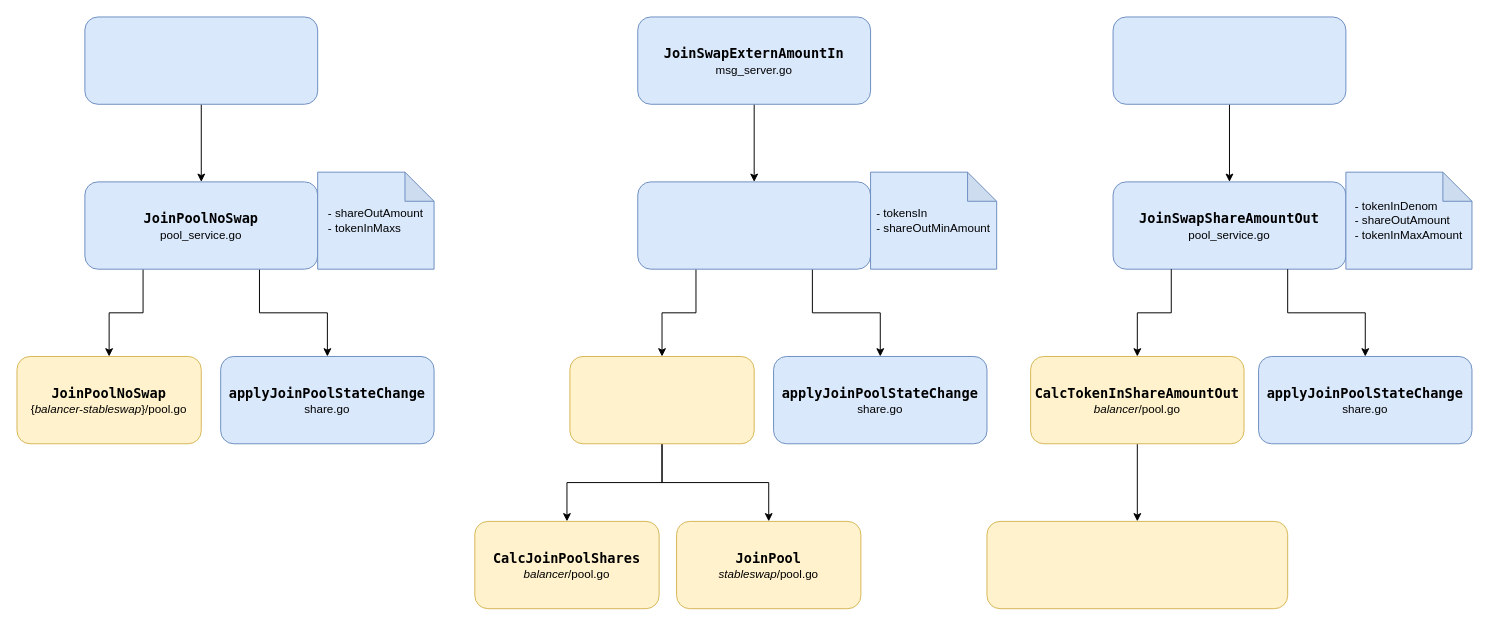
Image size: 1489x626. Some labels were removed from this diagram. Each missing label, with the centre of its shape:
calcSingleAssetInGivenPoolSharesOut balancer /amm.go: pixel 1137 564
JoinPool msg_server.go: pixel 201 60
JoinPool {balancer-stableswap} /pool.go: pixel 661 400
JoinSwapExactAmountIn pool_service.go: pixel 754 225
JoinSwapShareAmountOut msg_server.go: pixel 1229 60
